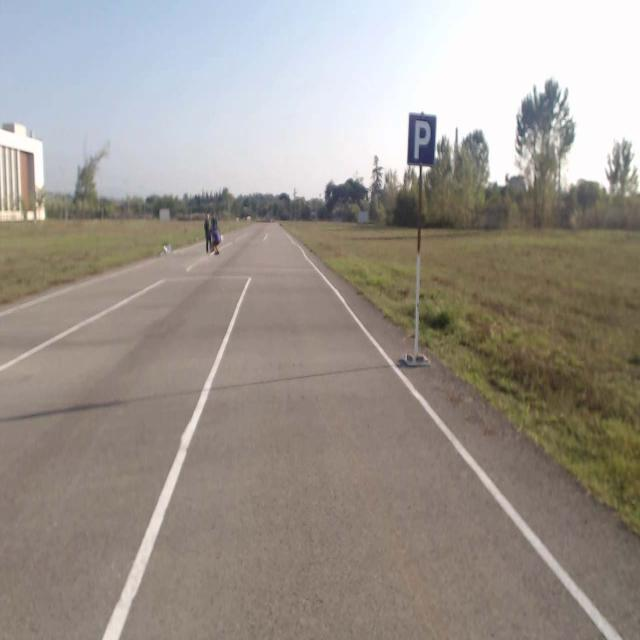park: (408, 111, 436, 166)
